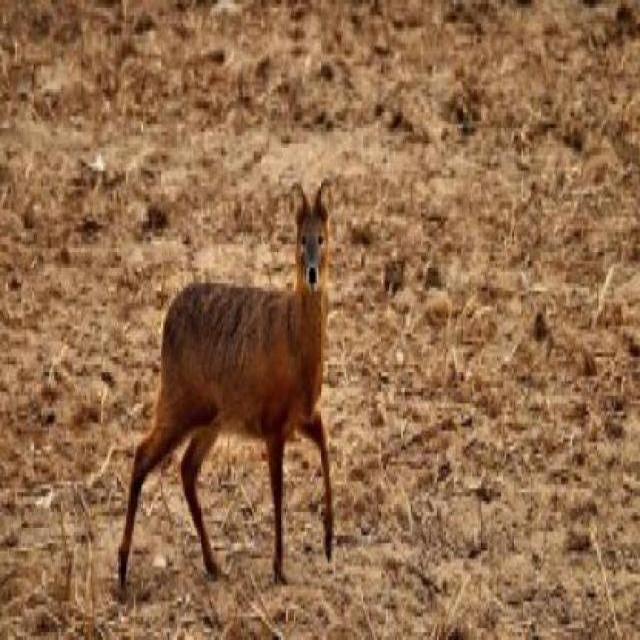deer: (111, 176, 338, 593)
